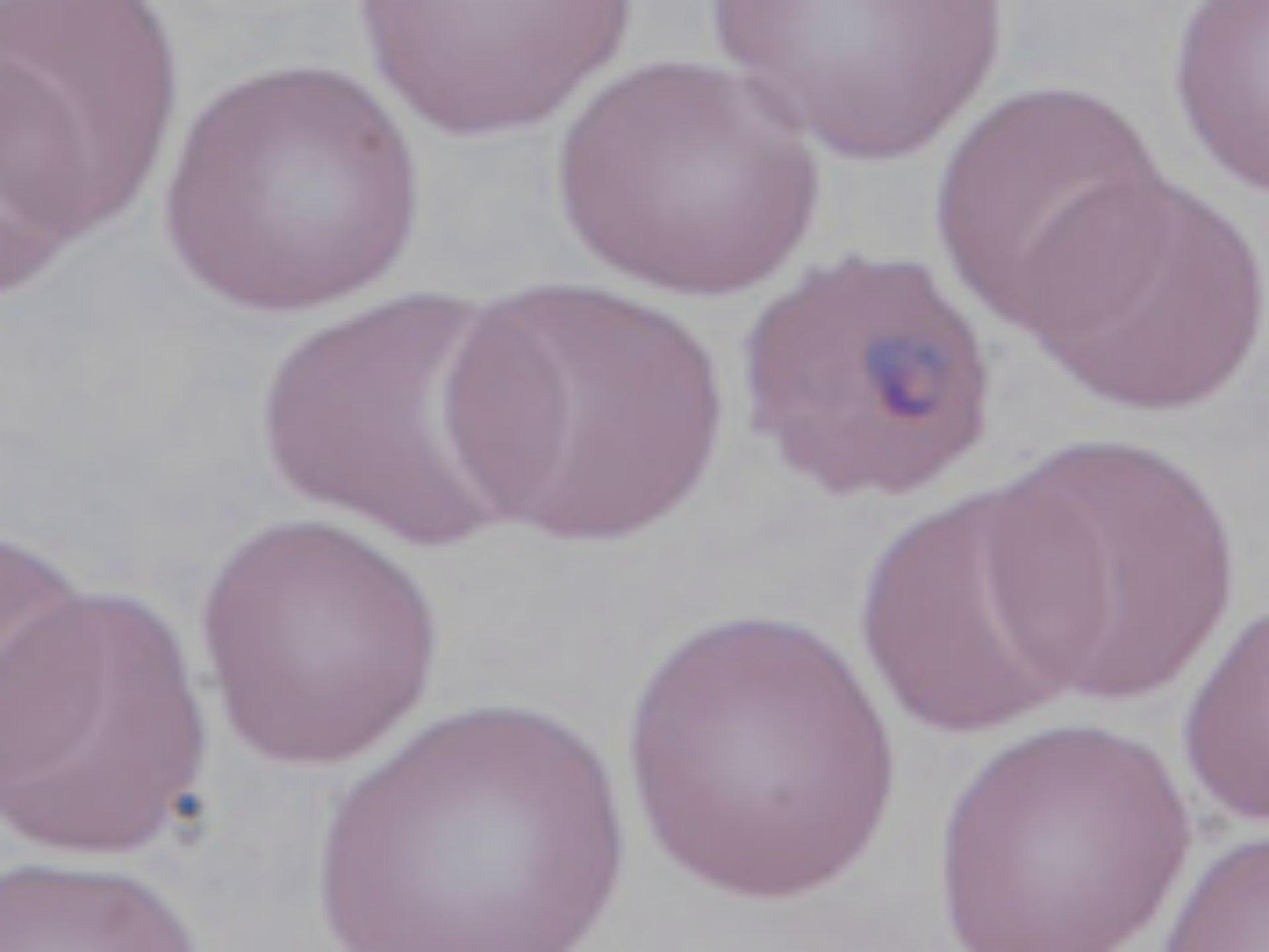Infected: (744, 263, 985, 492)
Uninfected: (440, 283, 718, 538), (324, 713, 619, 952), (274, 296, 559, 537), (636, 622, 890, 890), (985, 445, 1226, 697), (170, 76, 414, 306), (864, 488, 1096, 729), (565, 68, 810, 290), (947, 731, 1185, 952), (213, 528, 437, 761), (1023, 184, 1254, 409), (940, 92, 1160, 327), (0, 594, 198, 850), (717, 0, 984, 159), (0, 0, 175, 235), (362, 0, 626, 132)
